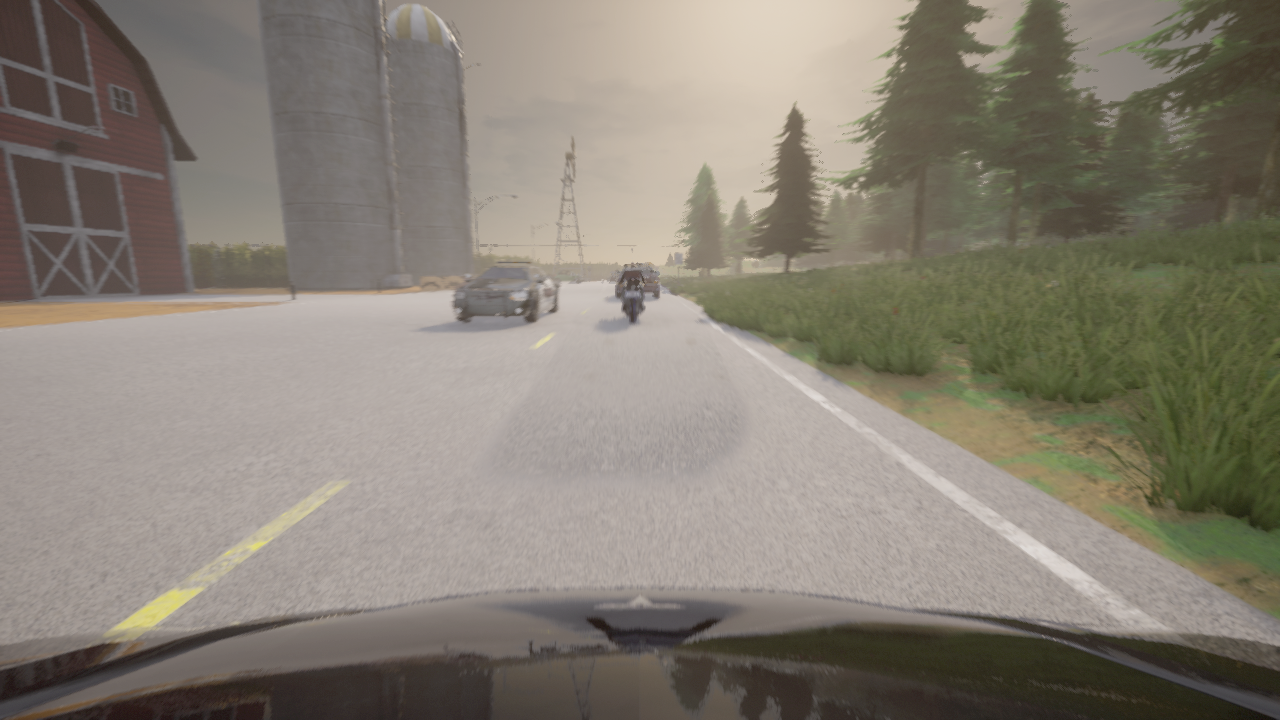cyclist: (0, 588, 1279, 719), (452, 261, 559, 322), (616, 263, 659, 297), (618, 275, 648, 322), (554, 271, 583, 282)
